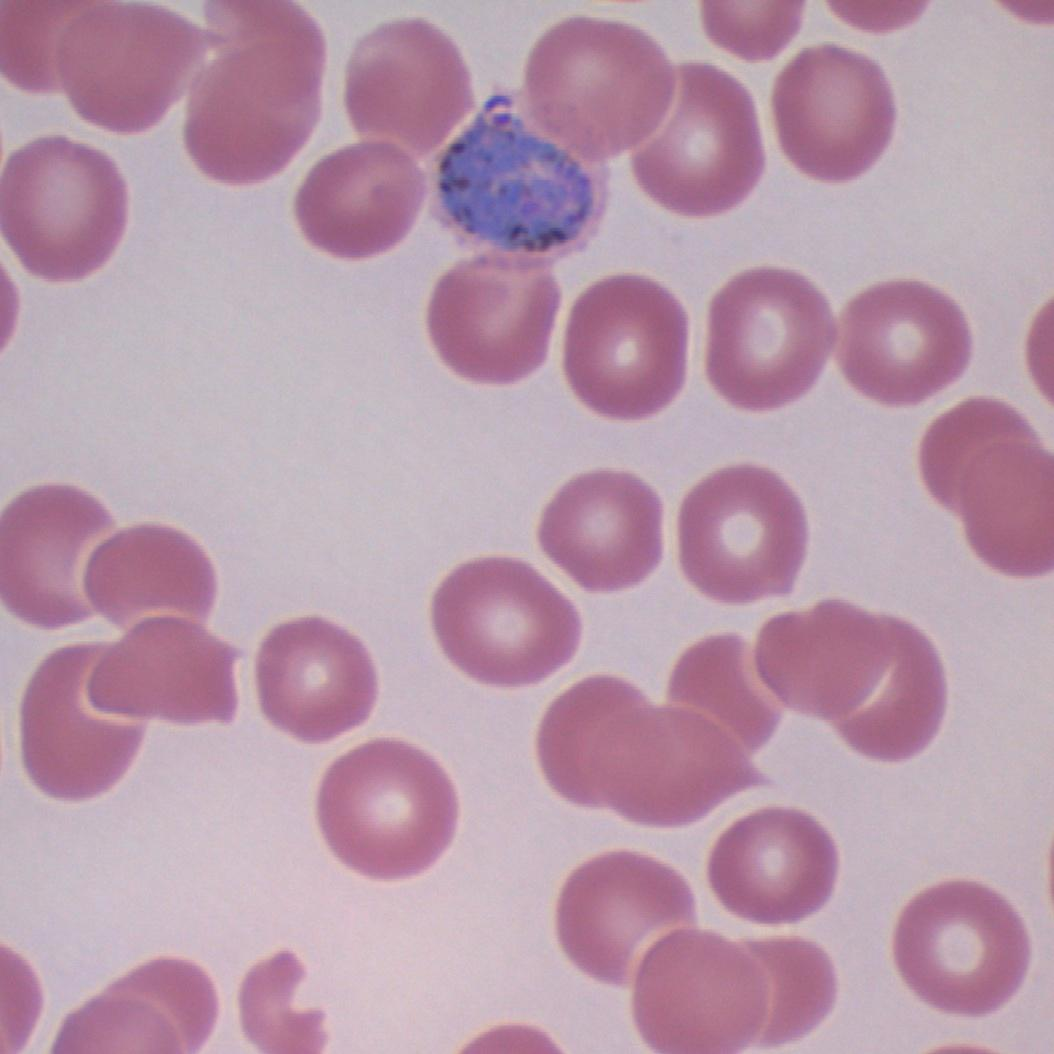Infected: (420, 82, 600, 260)
Uninfected: (522, 20, 676, 166), (630, 60, 768, 219), (20, 644, 151, 804), (428, 556, 584, 689), (704, 268, 842, 411), (317, 740, 460, 876), (0, 134, 130, 281), (184, 46, 322, 184), (344, 16, 476, 158), (426, 244, 560, 383), (562, 272, 688, 419), (554, 852, 693, 985), (82, 614, 239, 731), (816, 620, 946, 761), (632, 926, 775, 1054), (666, 630, 797, 767), (774, 42, 898, 185), (678, 462, 807, 599), (892, 884, 1029, 1012), (0, 484, 120, 627), (754, 600, 897, 719), (832, 278, 967, 404), (704, 804, 837, 926), (534, 672, 655, 806), (540, 468, 663, 595), (256, 618, 380, 743), (296, 140, 424, 259), (920, 396, 1046, 512), (84, 526, 216, 631), (965, 443, 1054, 579)
